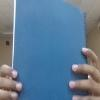notebook: (11, 0, 88, 99)
